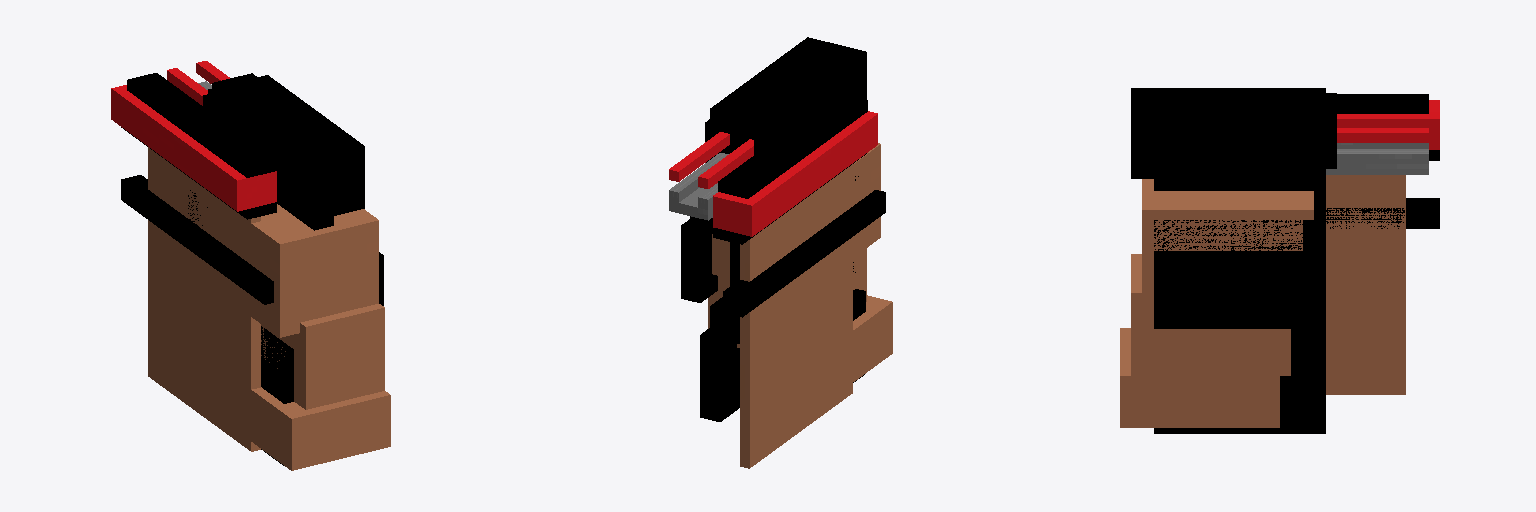
The picture shows the model from 3 angles: view 1: azimuth 30°, elevation 25°; view 2: azimuth 150°, elevation 25°; view 3: azimuth 270°, elevation 25°; orthographic projection.
Parts seen in each view (by area): view 1: cube; view 2: cube; view 3: cube.
Boxes of the visible parts, x1=… form: cube: x1=111, y1=61, x2=390, y2=470; cube: x1=669, y1=37, x2=892, y2=468; cube: x1=1120, y1=88, x2=1439, y2=433.
Size of the model in its own units: 13 by 30 by 28.
1 materials, 1 textured.